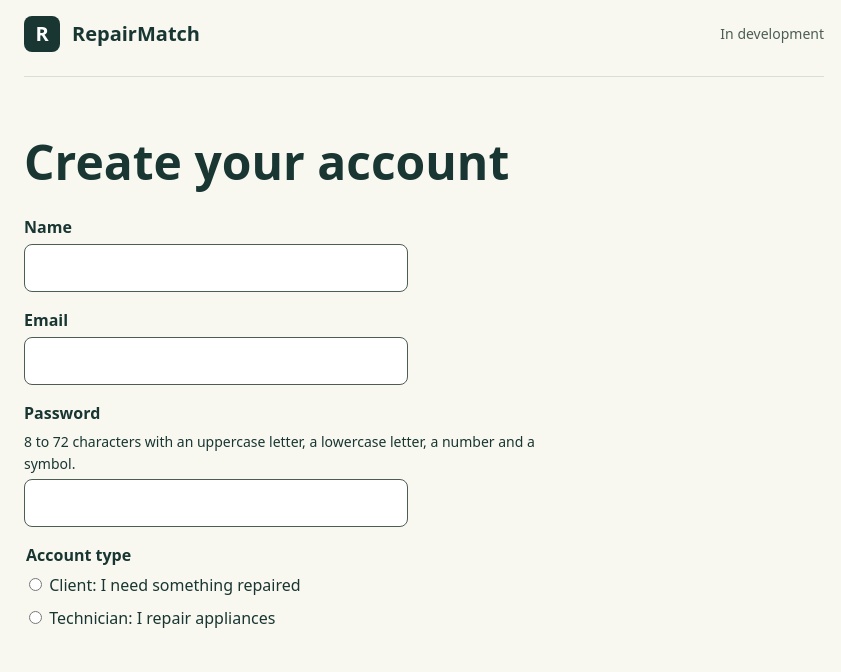
register form › sends one request when submitted twice before the form re-renders
Type "Test Client" into the field labelled "Name". click: (216, 268)
box: [24, 244, 408, 292]
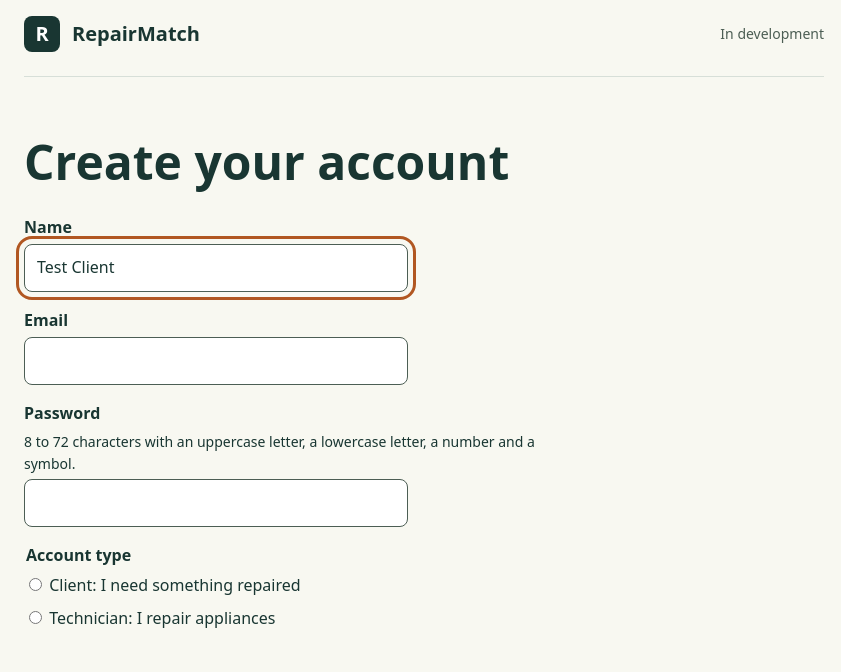
Type "client@example.test" into the field labelled "Email". click: (216, 361)
box: [24, 337, 408, 385]
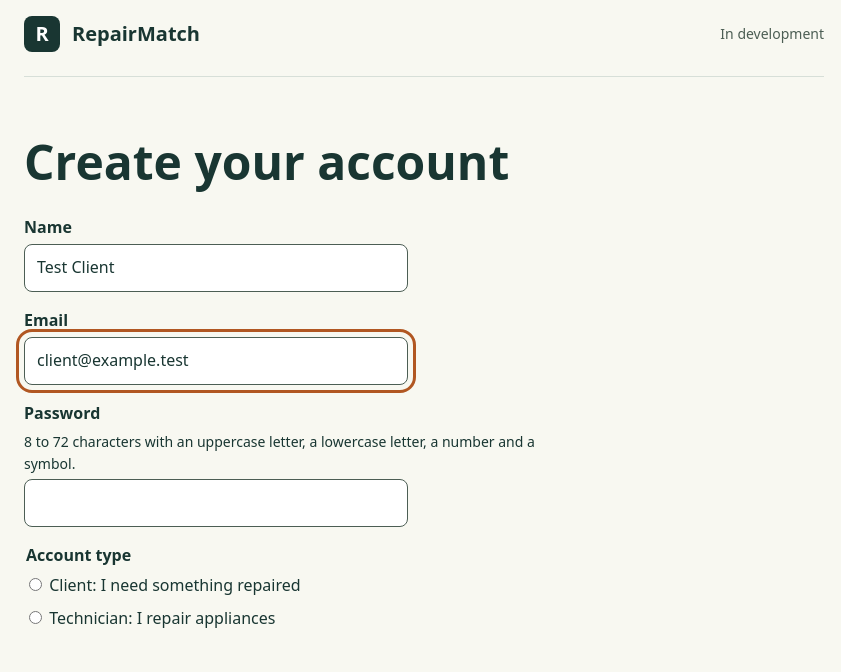
Type "Test-pass-1" into the password field labelled "Password". click: (216, 503)
box: [24, 479, 408, 527]
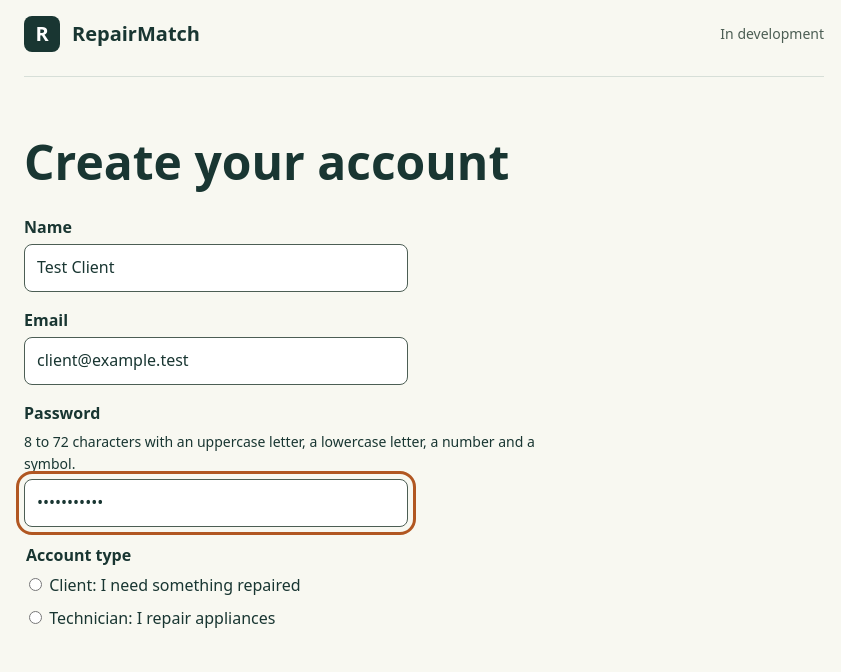
Click the radio button labelled "Client: I need something repaired". click: (36, 584)
box: [29, 578, 42, 590]
(page scrolled)
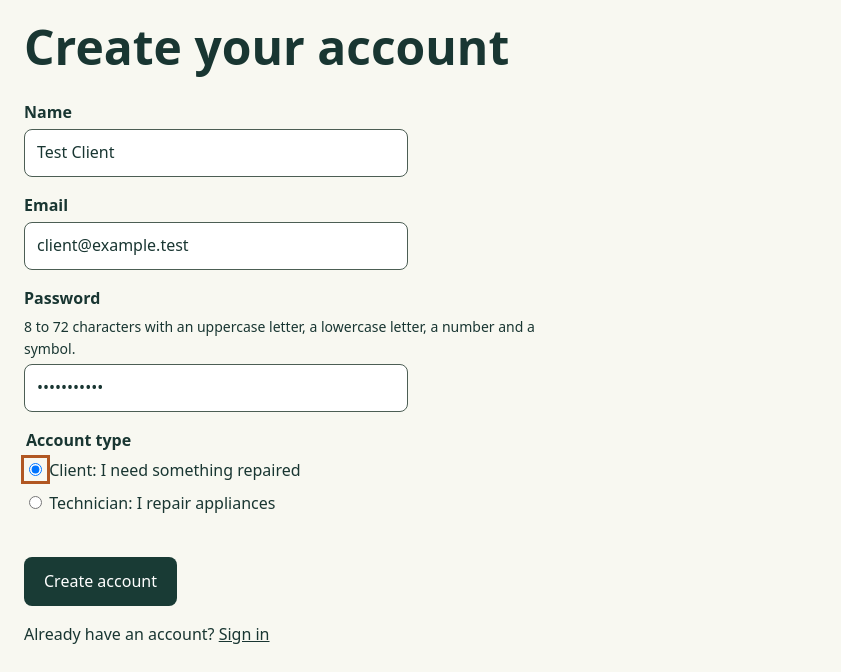
Submit the form named "Create account", box [24, 101, 535, 606]
Submit the form named "Create account", box [24, 101, 535, 606]
(page scrolled)
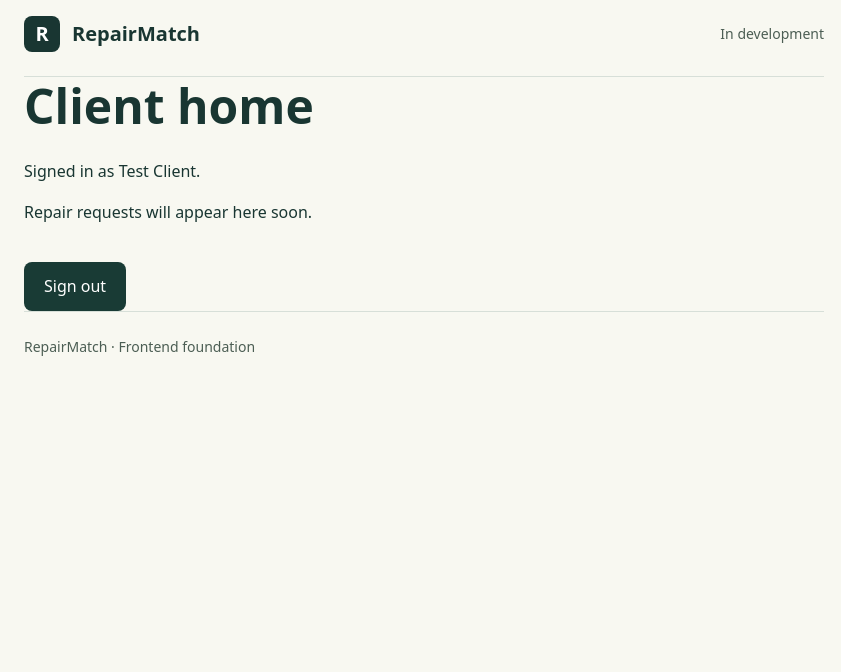
Now the heading "Client home" is shown, box [24, 73, 314, 138]
